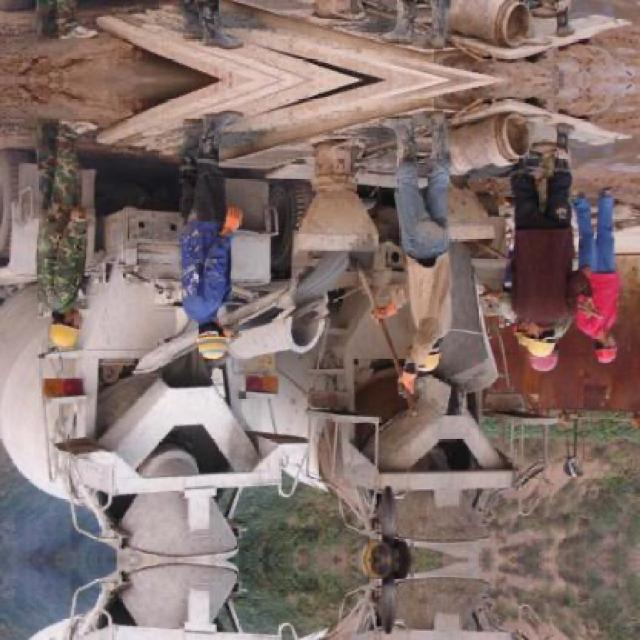con casco: (172, 290, 264, 382), (510, 304, 609, 372), (384, 315, 464, 370), (37, 292, 90, 356)
